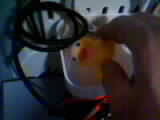duck: (62, 41, 110, 77)
